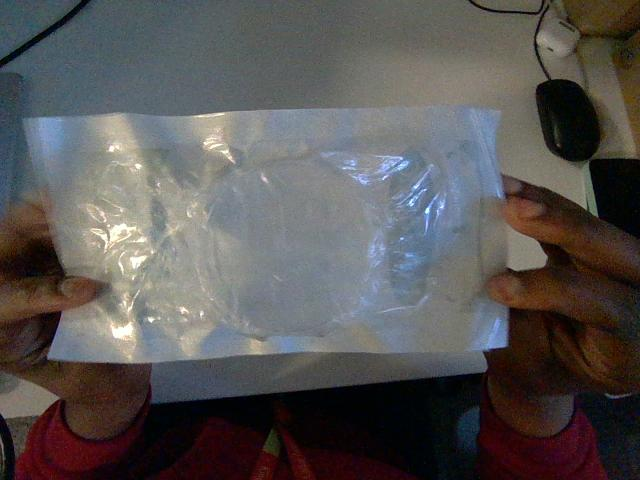gallipot: (25, 106, 506, 361)
